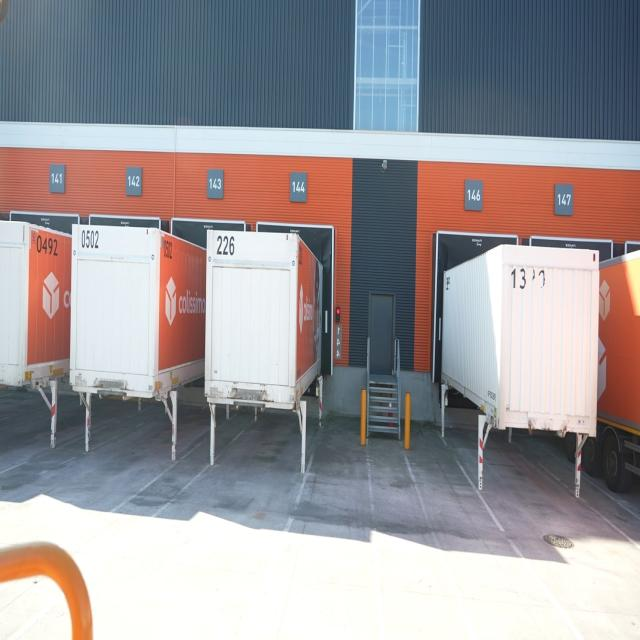Code: (34, 232, 59, 258), (214, 234, 236, 259), (80, 225, 98, 252)
